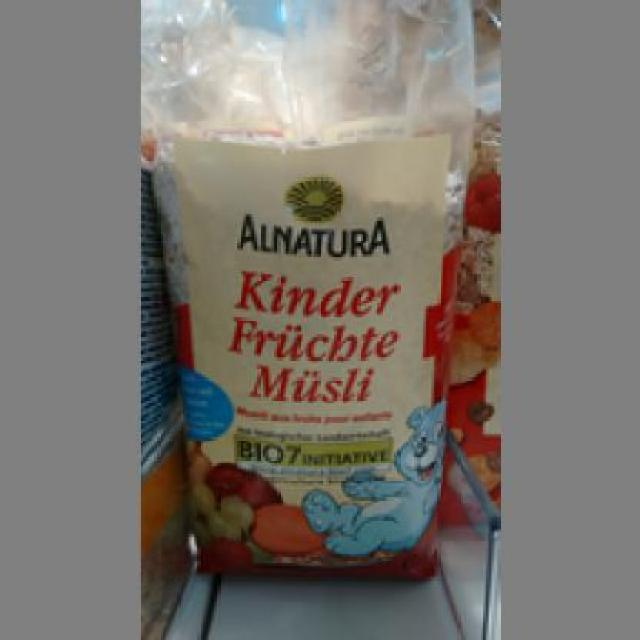Cereal: (140, 80, 463, 583)
